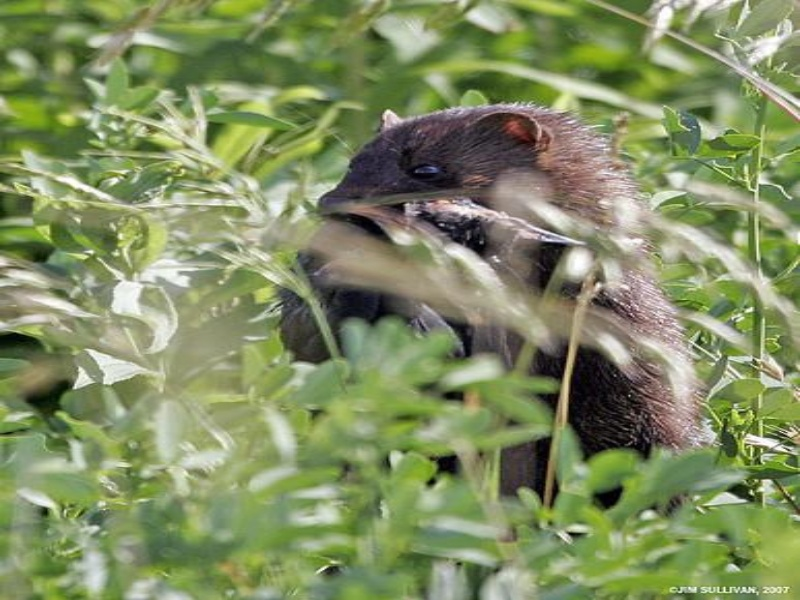minkish: (272, 95, 710, 516)
